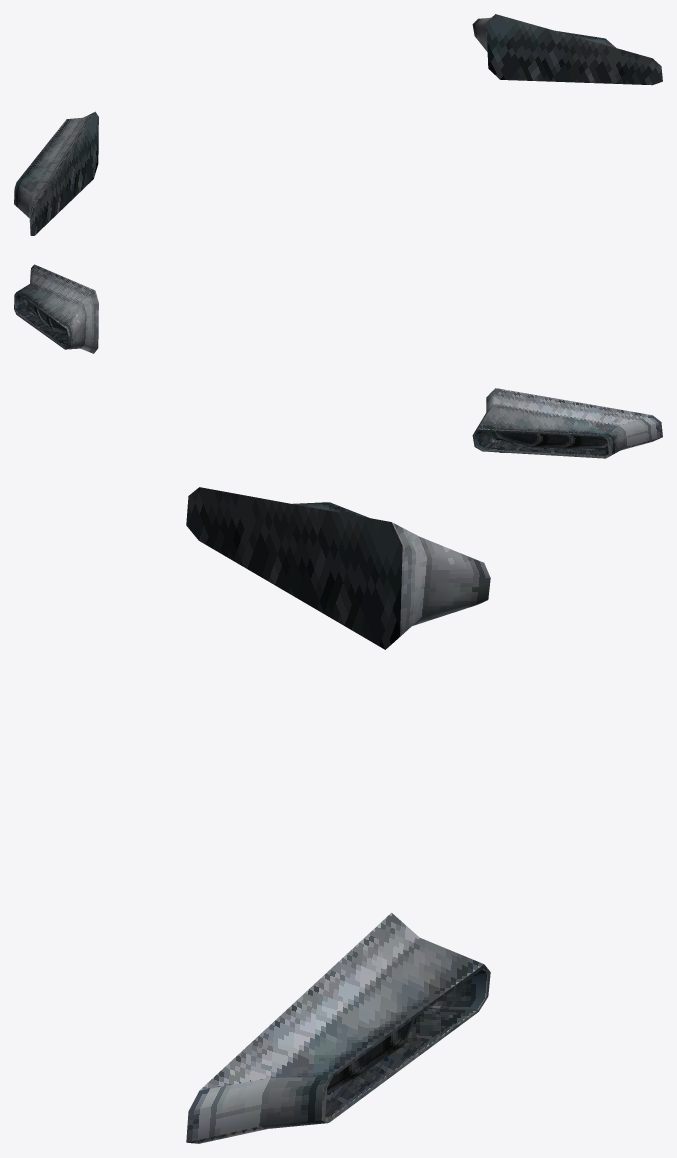
File: vt49_booster_s02_l2.fbx
The picture shows the model from 3 angles, top to bottom: view 1: azimuth 30°, elevation 25°; view 2: azimuth 150°, elevation 25°; view 3: azimuth 270°, elevation 25°; orthographic projection. The views are drawn at different scales.
Visible parts, largest first — view 1: mesh_node; view 2: mesh_node; view 3: mesh_node.
Boxes of the visible parts, x1,y1,x2,y2 form: mesh_node: (14, 14, 662, 235); mesh_node: (14, 264, 662, 458); mesh_node: (186, 487, 490, 1143).
Size of the model in its own units: 33.56 by 3.32 by 7.
Materials: 1 (1 with a texture image).
